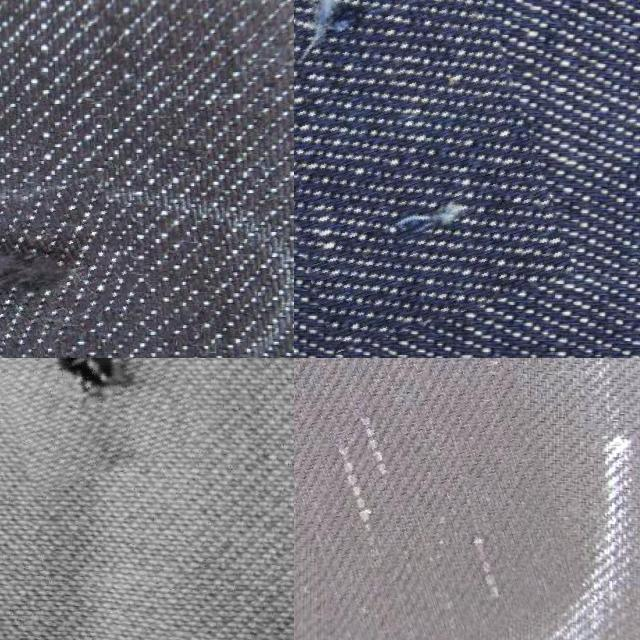Thread_other: (294, 0, 543, 339), (294, 358, 552, 640), (0, 185, 134, 358)
seam: (0, 358, 186, 485)
